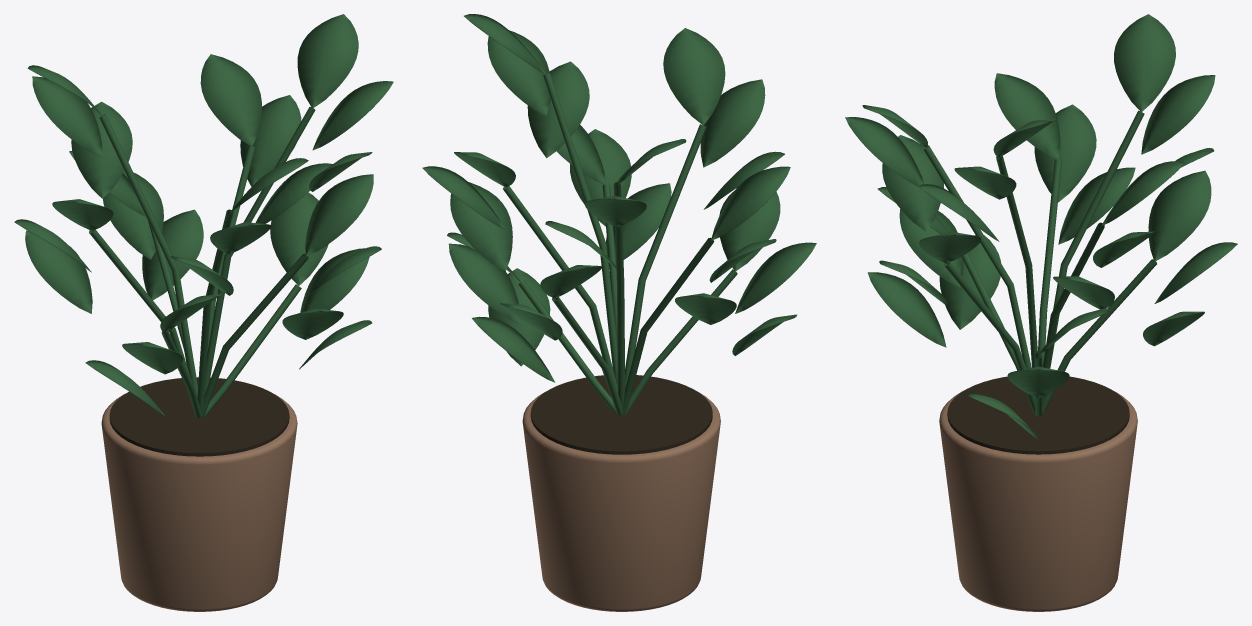
The model's file is plant.glb.
3 views of the same model, side by side, from view 1: azimuth 30°, elevation 25°; view 2: azimuth 150°, elevation 25°; view 3: azimuth 270°, elevation 25° (orthographic).
Parts seen in each view (by area): view 1: Ceramic planter, Цилиндр, Ficus leaf.024, Ficus leaf.015, Ficus leaf.009, Ficus leaf.023, Ficus leaf.016, Ficus leaf.022, Ficus leaf.014, Ficus leaf, Ficus leaf.008, Ficus leaf.007 (+26 smaller); view 2: Ceramic planter, Цилиндр, Ficus leaf.018, Ficus leaf.019, Ficus leaf.026, Ficus leaf.017, Ficus leaf.025, Ficus leaf.001, Ficus leaf.012, Curving stem.008, Ficus leaf.004, Curving stem.006 (+25 smaller); view 3: Ceramic planter, Цилиндр, Ficus leaf.021, Ficus leaf.006, Ficus leaf.013, Ficus leaf.012, Ficus leaf.022, Ficus leaf.020, Ficus leaf.011, Ficus leaf.005, Ficus leaf.019, Ficus leaf.014 (+23 smaller).
Part boxes in pixels (x1=…): Ceramic planter: x1=101, y1=393, x2=297, y2=611; Цилиндр: x1=109, y1=377, x2=289, y2=456; Ficus leaf.024: x1=297, y1=14, x2=358, y2=108; Ficus leaf.015: x1=200, y1=54, x2=261, y2=146; Ficus leaf.009: x1=305, y1=174, x2=373, y2=256; Ficus leaf.023: x1=71, y1=101, x2=132, y2=198; Ficus leaf.016: x1=240, y1=95, x2=301, y2=186; Ficus leaf.022: x1=32, y1=76, x2=102, y2=157; Ficus leaf.014: x1=25, y1=230, x2=92, y2=313; Ficus leaf: x1=270, y1=192, x2=328, y2=285; Ficus leaf.008: x1=142, y1=209, x2=203, y2=299; Ficus leaf.007: x1=103, y1=171, x2=163, y2=259; Ceramic planter: x1=522, y1=391, x2=720, y2=611; Цилиндр: x1=530, y1=375, x2=712, y2=454; Ficus leaf.018: x1=663, y1=28, x2=725, y2=125; Ficus leaf.019: x1=700, y1=79, x2=765, y2=167; Ficus leaf.026: x1=527, y1=61, x2=589, y2=158; Ficus leaf.017: x1=450, y1=182, x2=512, y2=271; Ficus leaf.025: x1=487, y1=30, x2=550, y2=116; Ficus leaf.001: x1=448, y1=243, x2=520, y2=324; Ficus leaf.012: x1=711, y1=166, x2=790, y2=240; Curving stem.008: x1=543, y1=73, x2=617, y2=385; Ficus leaf.004: x1=735, y1=242, x2=816, y2=313; Curving stem.006: x1=625, y1=124, x2=706, y2=387; Ceramic planter: x1=939, y1=391, x2=1137, y2=611; Цилиндр: x1=947, y1=376, x2=1129, y2=454; Ficus leaf.021: x1=1114, y1=14, x2=1175, y2=112; Ficus leaf.006: x1=1148, y1=170, x2=1211, y2=261; Ficus leaf.013: x1=1034, y1=104, x2=1096, y2=202; Ficus leaf.012: x1=994, y1=73, x2=1060, y2=159; Ficus leaf.022: x1=1141, y1=75, x2=1215, y2=154; Ficus leaf.020: x1=882, y1=135, x2=943, y2=231; Ficus leaf.011: x1=867, y1=272, x2=946, y2=347; Ficus leaf.005: x1=939, y1=235, x2=1000, y2=329; Ficus leaf.019: x1=845, y1=117, x2=924, y2=186; Ficus leaf.014: x1=1058, y1=167, x2=1135, y2=244.
Size of the model in its own units: 0.8542 by 1.26 by 0.8448.
